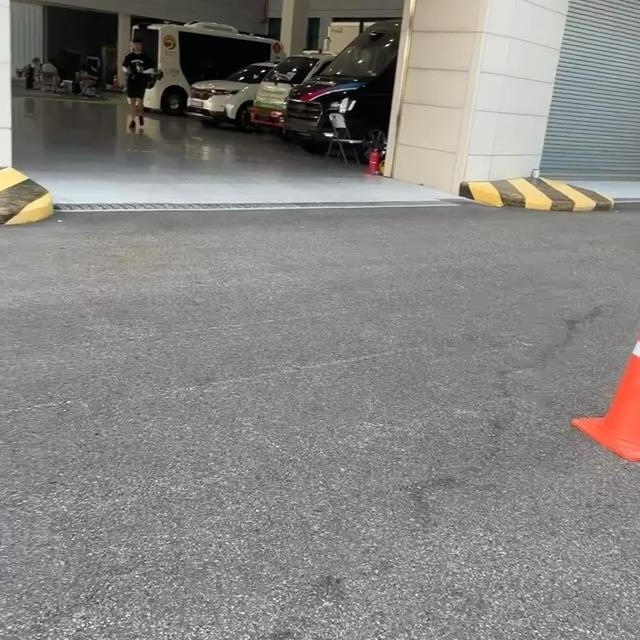fallen_object: (523, 307, 640, 499)
